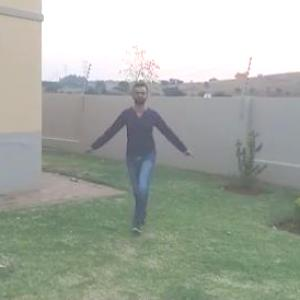land: (94, 85, 186, 216)
